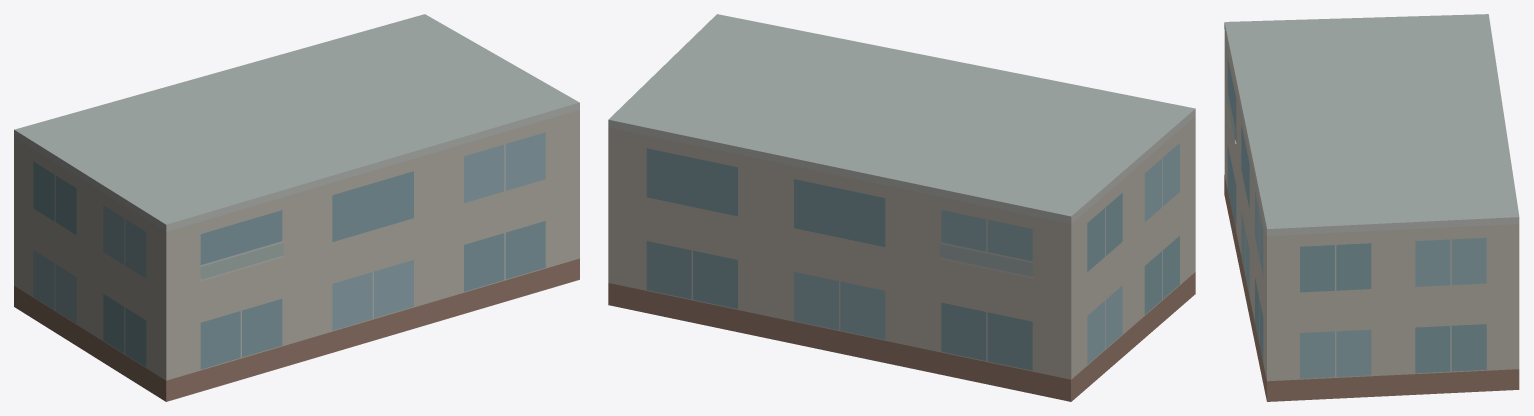
The model's file is survey-upis-32871441.glb.
3 views of the same model, side by side, from view 1: azimuth 30°, elevation 25°; view 2: azimuth 150°, elevation 25°; view 3: azimuth 270°, elevation 25° (orthographic). The views are drawn at different scales.
Visible parts, largest first — view 1: survey-upis-32871441.tmp; view 2: survey-upis-32871441.tmp; view 3: survey-upis-32871441.tmp.
Boxes of the visible parts, bbox=[...] form: survey-upis-32871441.tmp: bbox=[14, 14, 579, 401]; survey-upis-32871441.tmp: bbox=[608, 14, 1195, 401]; survey-upis-32871441.tmp: bbox=[1224, 14, 1519, 401].
Bounding box in the file's own units: 16.3 × 6.1 × 9.45.
